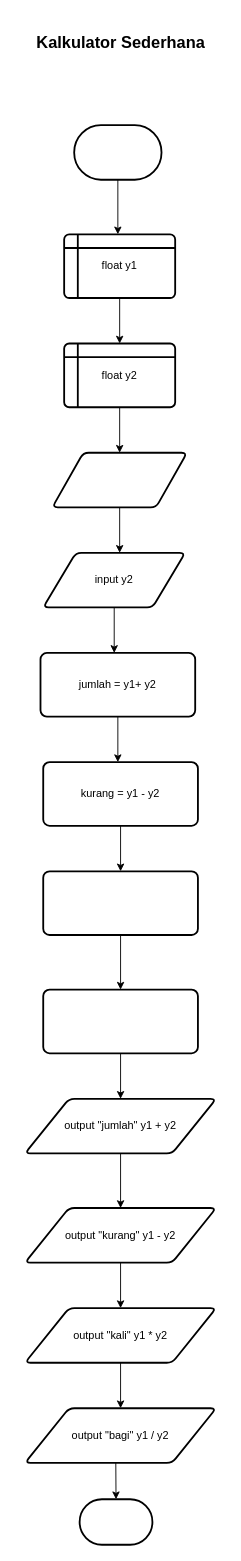
The diagram is 241 pixels wide and 1561 high, and some of its shapes have lost their labels. The shapes that lost their labels are listed below. From the top down, each one's centre as x and y in pixels, then its label:
(x=117, y=152): main
(x=119, y=479): input y1
(x=120, y=902): kali = y1 * y2
(x=120, y=1021): bagi = y1 / y2
(x=115, y=1521): end
